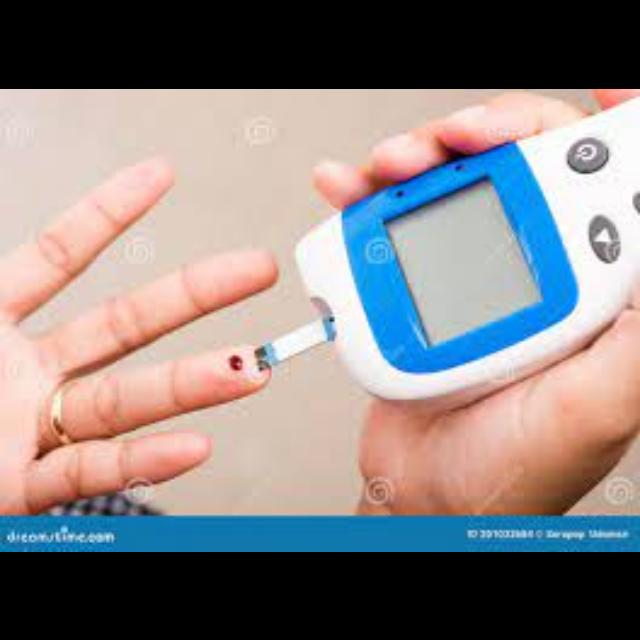Glucose-Meter: (260, 98, 640, 397)
